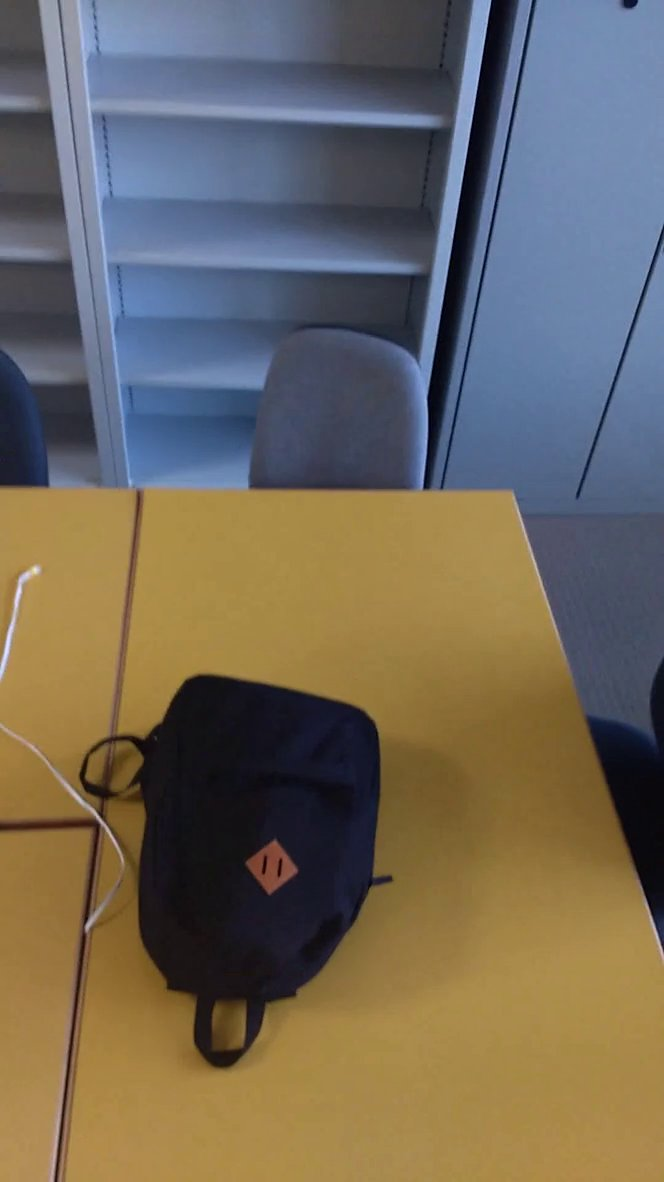bag: (75, 659, 417, 1078)
chair: (226, 316, 452, 539)
